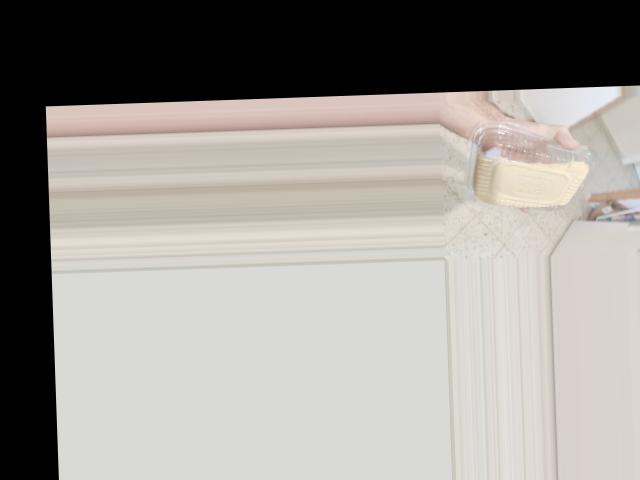cheese: (456, 142, 565, 199)
